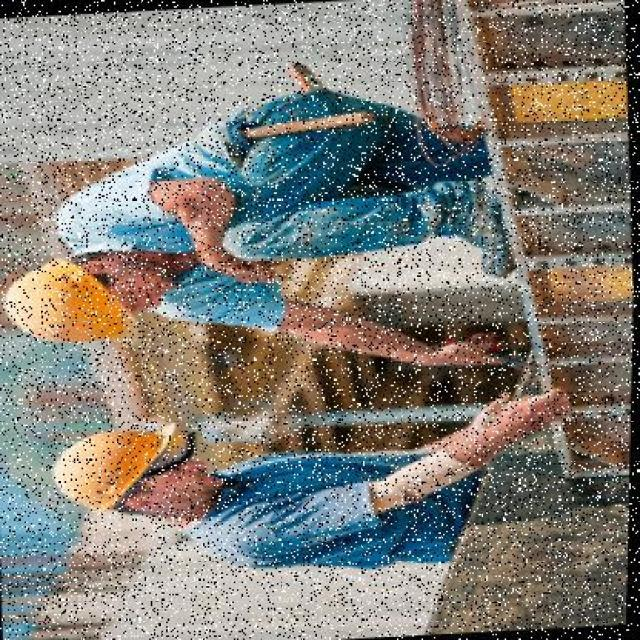helmet: (0, 251, 138, 357), (48, 414, 188, 510)
